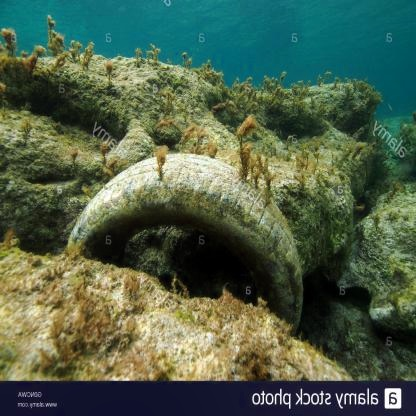tire: (54, 150, 312, 344)
